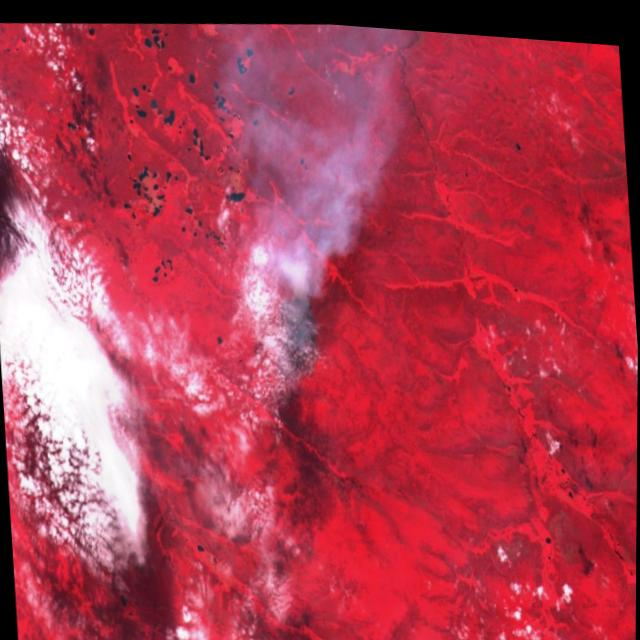fire: (265, 273, 325, 391)
